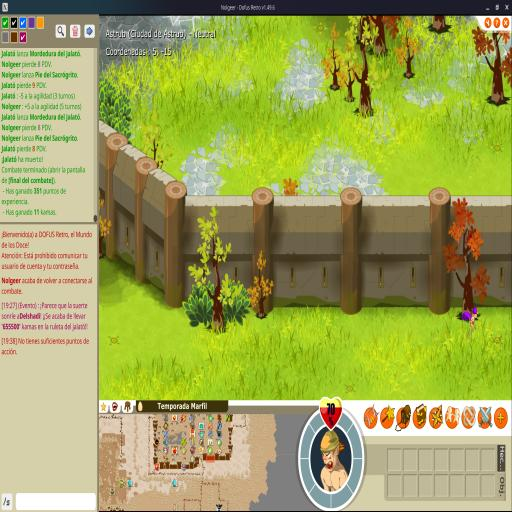Personaje: (461, 302, 480, 342)
